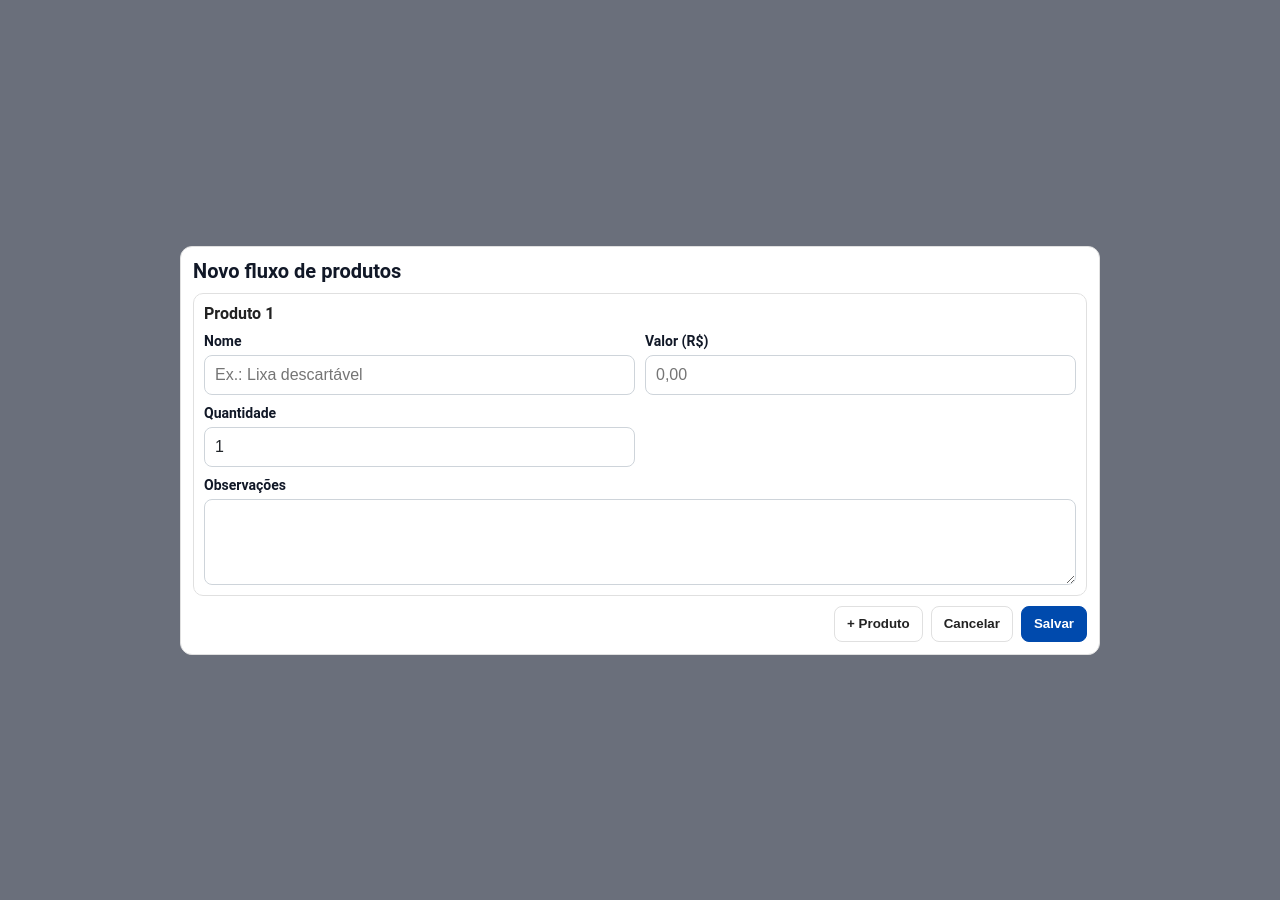
it: PodologyProductModal catalog selection › fills name, value, and notes when selecting a catalog product
Focus the field with placeholder "Ex.: Lixa descartável" at [420, 374], box [204,354,635,394]
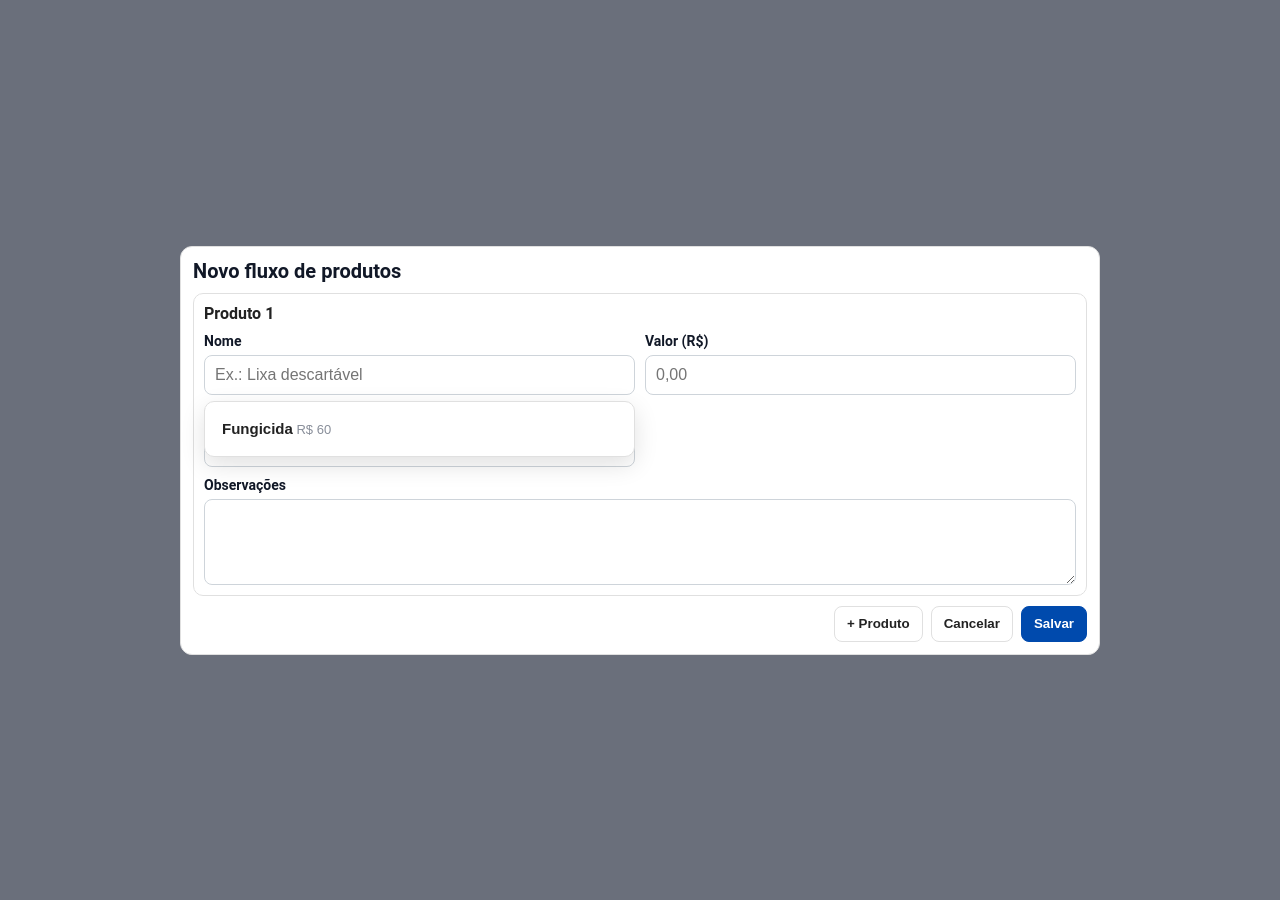
Click the button "Fungicida R$ 60".
click(277, 428)  # box [211,408,342,450]
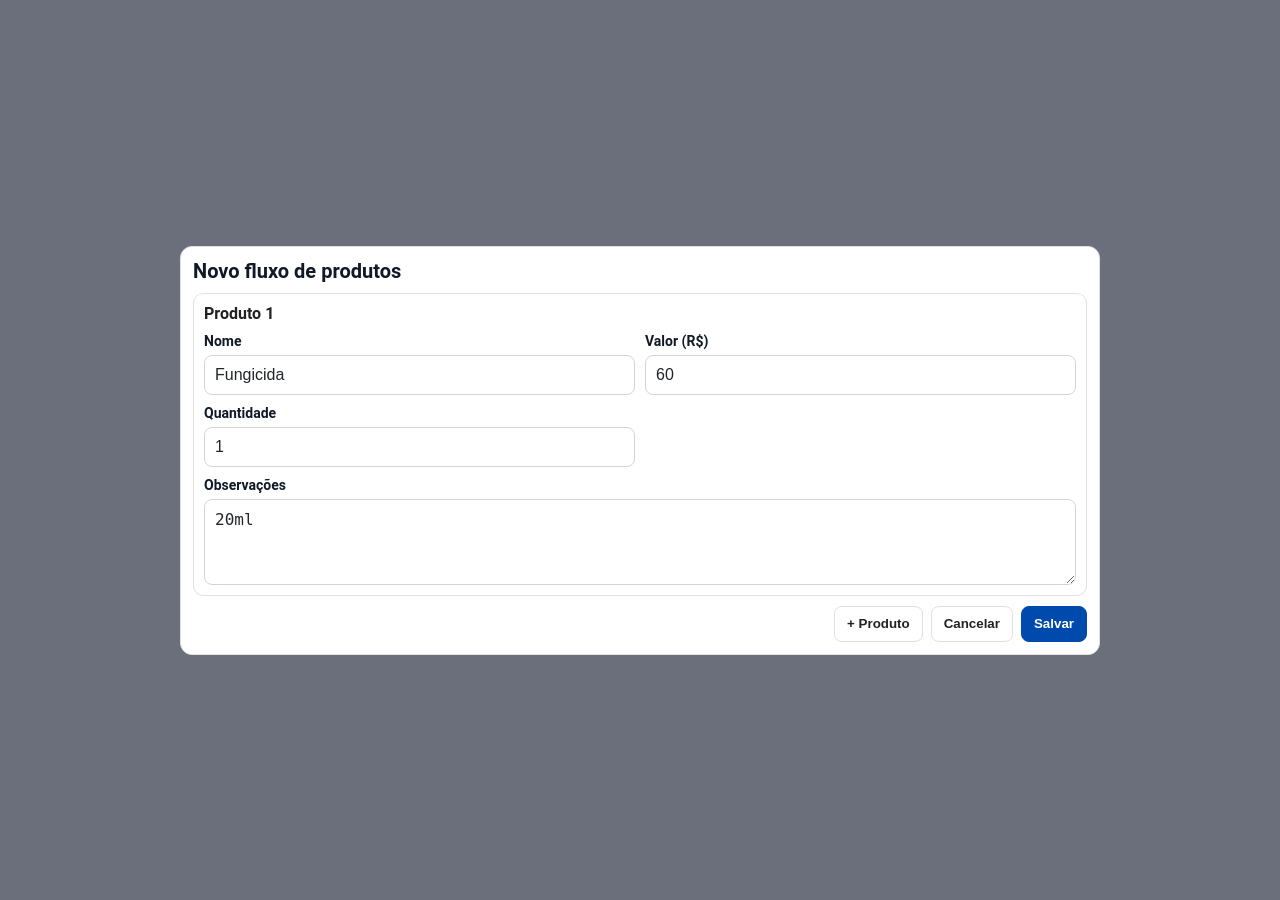
Result: the field with placeholder "Ex.: Lixa descartável" holds "Fungicida" at [204,354,635,394]
Result: the field with placeholder "0,00" holds "60" at [645,354,1076,394]
Result: the text box labelled "Observações" holds "20ml" at [204,498,1076,584]
